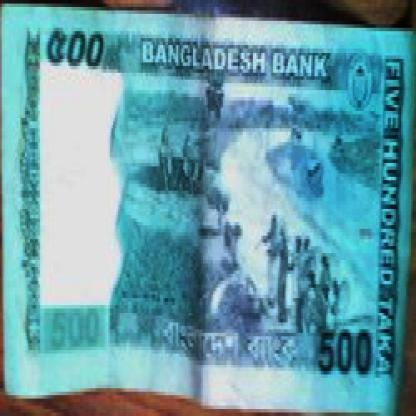500 taka: (314, 329, 380, 385), (47, 24, 113, 73)
currency: (0, 7, 408, 409)
